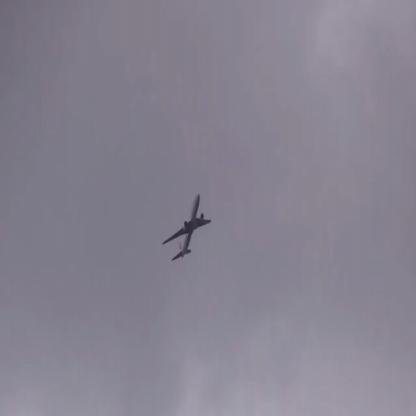CIV_Plane: (162, 192, 214, 260)
